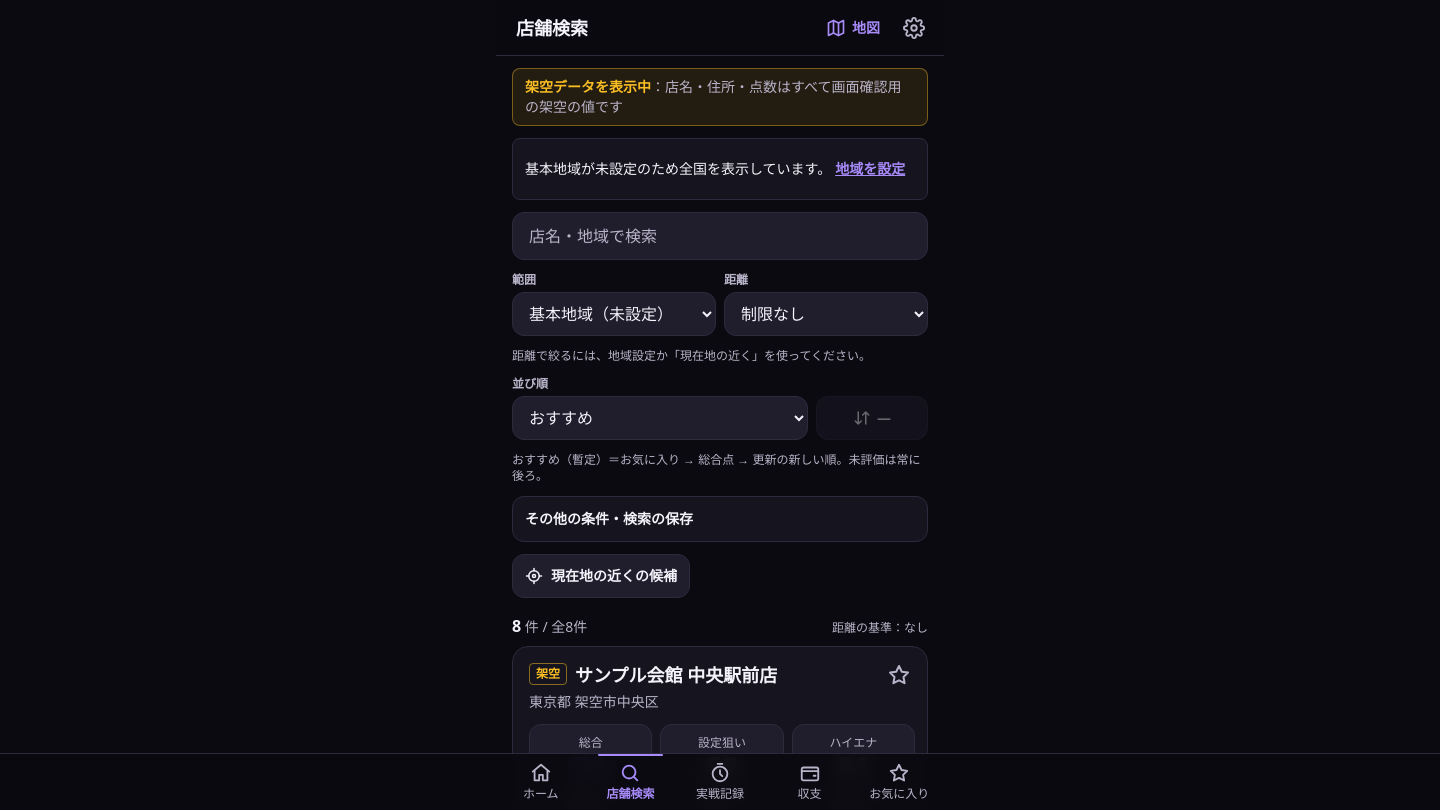
it: GPS › 許可されたら近い候補を出し、選ぶのは本人（自動で確定しない）
This screenshot has width=1440, height=810.
Click the button "現在地の近くの候補". click: (601,576)
box: [512,554,690,598]
(page scrolled)
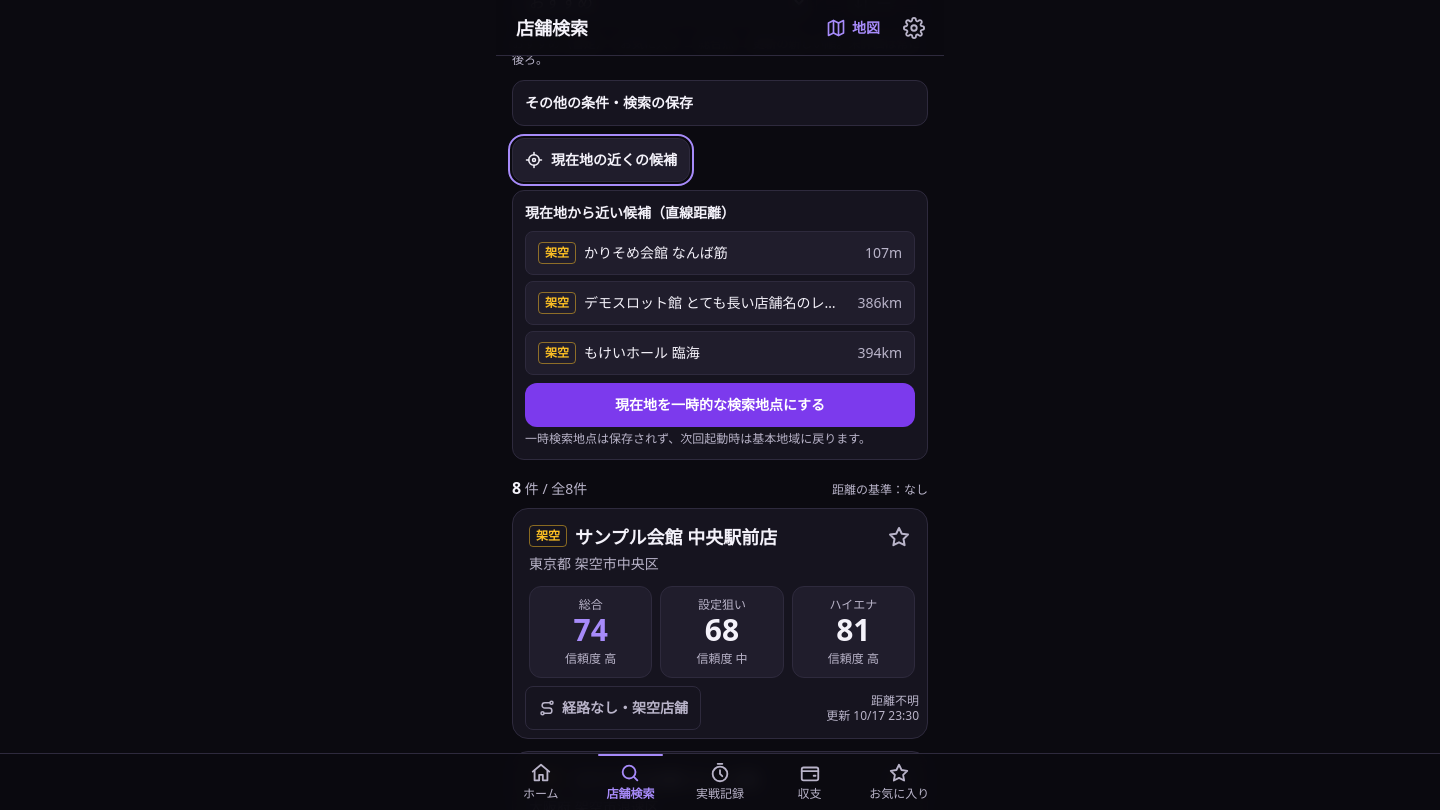
Expected: the text "距離の基準：なし" is shown, [832,482,928,498]
Result: the link "架空 かりそめ会館 なんば筋 107m" is shown at [525,231,915,275]
Click the button "現在地を一時的な検索地点にする". click: (720,405)
box: [525,383,915,427]
(page scrolled)
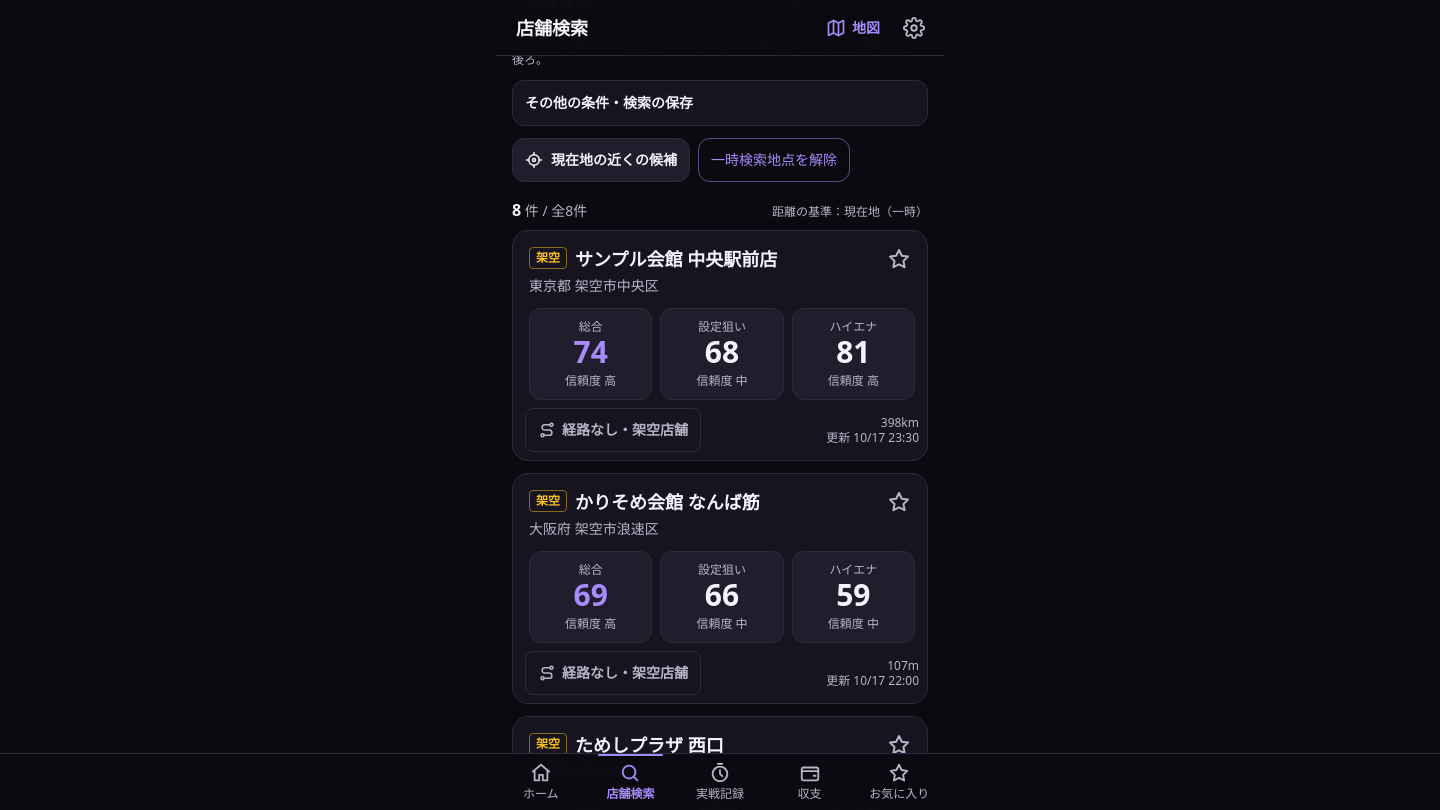
Result: the text "距離の基準：現在地（一時）" is shown at [772,204,928,220]
